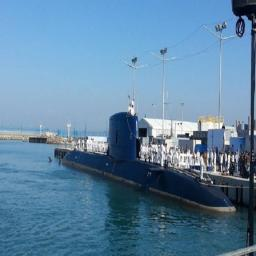submarine: (48, 111, 238, 213)
